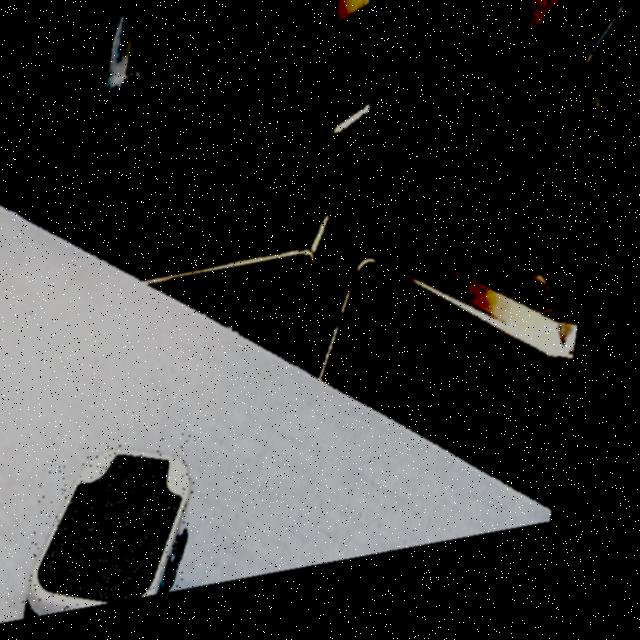adapter: (39, 439, 218, 624)
